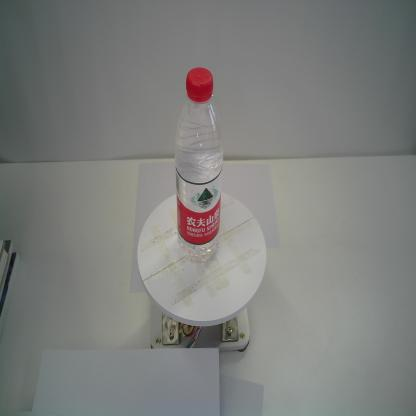Drink: (174, 67, 224, 262)
